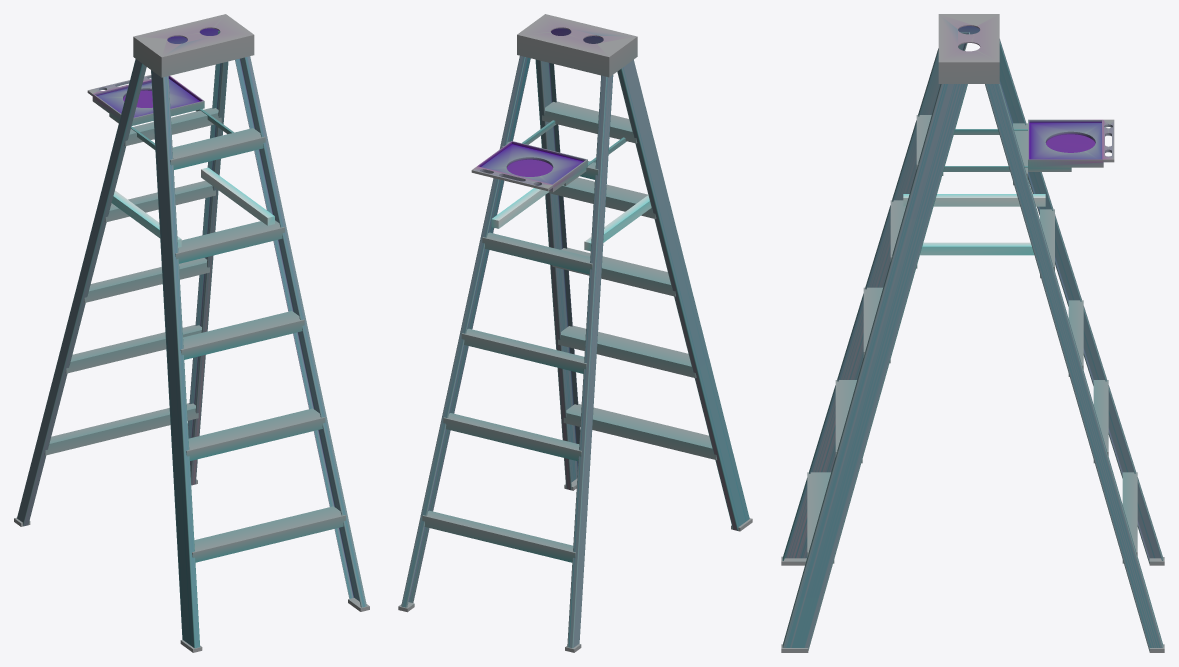
The model's file is simready-ladder_step_aluminium_a06.glb.
The picture shows the model from 3 angles, left to right: view 1: azimuth 30°, elevation 25°; view 2: azimuth 150°, elevation 25°; view 3: azimuth 270°, elevation 25°; orthographic projection. The views are drawn at different scales.
Visible parts, largest first — view 1: channel.001, channel, channel.003, bridge, channel.002, step, step.001, step.002, tray_floor, crossbar, step.003, step.004 (+6 smaller); view 2: channel.001, channel.003, channel.002, channel, bridge, tray_floor, step, step.001, crossbar, crossbar.001, crossbar.002, crossbar.003 (+5 smaller); view 3: channel, channel.002, channel.001, channel.003, bridge, tray_floor, spreader_brace, spreader_brace.001, step, crossbar, step.001, crossbar.001 (+5 smaller).
Part boxes in pixels (<box>): channel.001: <box>151,70,200,648</box>; channel: <box>235,56,366,607</box>; channel.003: <box>17,59,146,526</box>; bridge: <box>133,14,254,77</box>; channel.002: <box>188,31,228,485</box>; step: <box>192,506,345,562</box>; step.001: <box>186,408,325,460</box>; step.002: <box>180,311,304,359</box>; tray_floor: <box>87,75,204,125</box>; crossbar: <box>44,403,198,455</box>; step.003: <box>175,220,284,263</box>; step.004: <box>170,128,265,169</box>; channel.001: <box>617,59,749,530</box>; channel.003: <box>567,75,613,648</box>; channel.002: <box>401,55,530,607</box>; channel: <box>535,33,580,490</box>; bridge: <box>517,14,637,77</box>; tray_floor: <box>471,141,587,192</box>; step: <box>563,404,716,459</box>; step.001: <box>558,325,696,378</box>; crossbar: <box>422,510,575,562</box>; crossbar.001: <box>443,413,581,461</box>; crossbar.002: <box>461,328,586,373</box>; crossbar.003: <box>482,232,592,273</box>; channel: <box>782,84,967,650</box>; channel.002: <box>985,81,1163,651</box>; channel.001: <box>782,32,969,560</box>; channel.003: <box>999,39,1163,563</box>; bridge: <box>938,14,999,83</box>; tray_floor: <box>1028,119,1114,167</box>; spreader_brace: <box>920,242,1034,255</box>; spreader_brace.001: <box>903,194,1045,206</box>; step: <box>807,472,834,563</box>; crossbar: <box>1122,472,1137,563</box>; step.001: <box>835,380,862,463</box>; crossbar.001: <box>1093,380,1108,463</box>.
Bounding box in the file's own units: 0.61 × 1.75 × 1.07.
